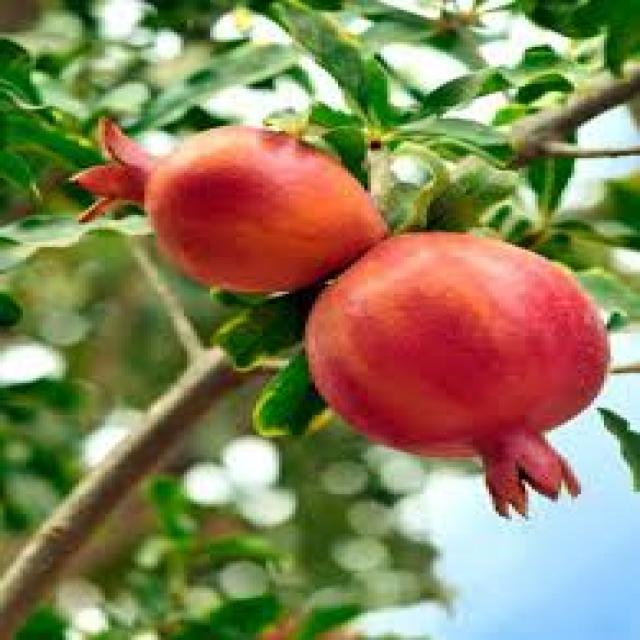Ripe: (302, 230, 614, 524), (66, 113, 389, 288)
